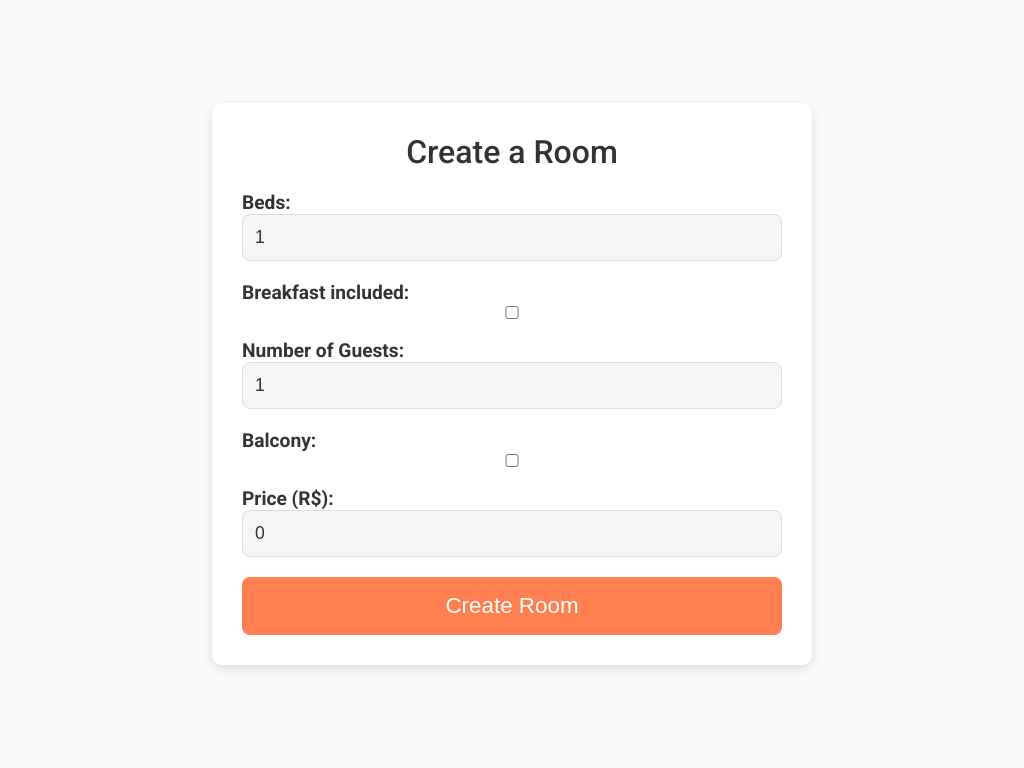
Test: RoomForm Component with Modal › handles form submission failure and shows modal
Simulando o clique no botão de submissão
What coordinates should you click on to do the following:
click the button "Create Room"
I would click on:
 (512, 606)
Its box is [242,577,782,635].
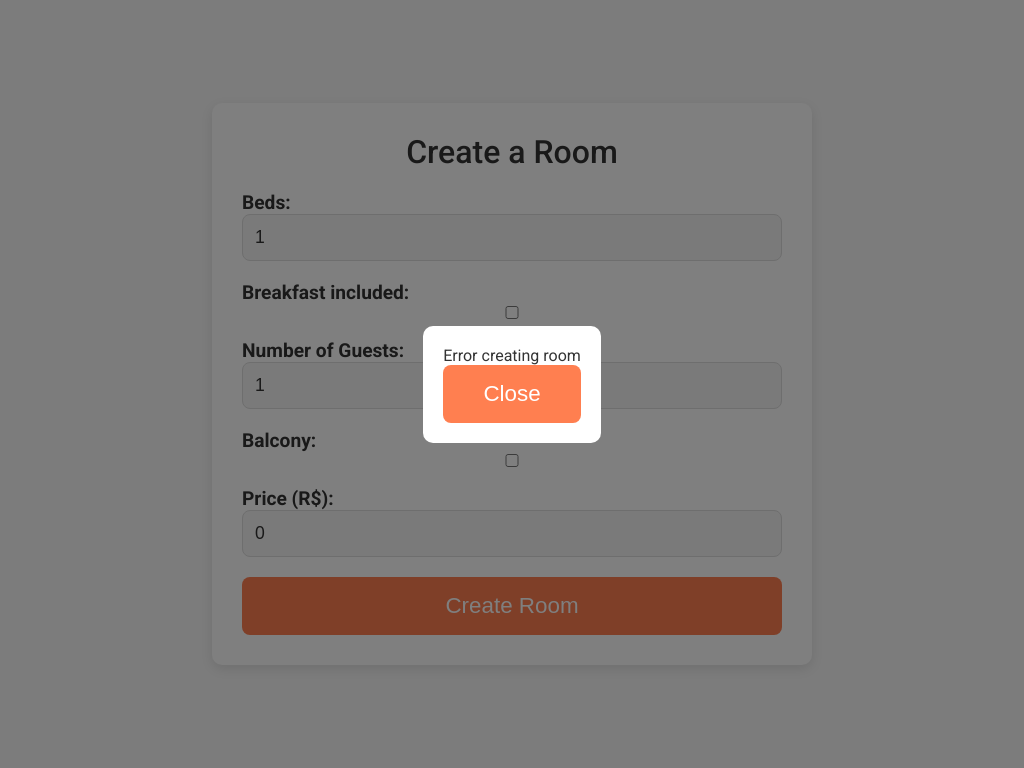
Now the text "Error creating room" is shown, box [443,346,581,364]
Fechando a modal
What coordinates should you click on to do the following:
click the button "Close"
I would click on:
 (512, 394)
Its box is [443,364,581,422].
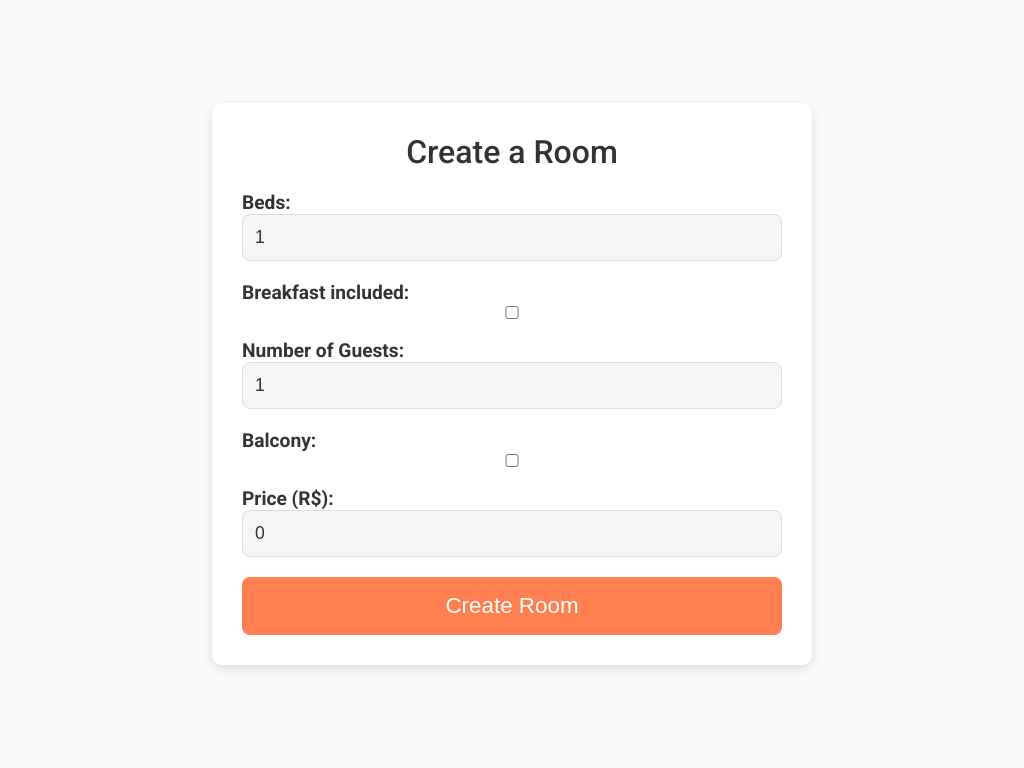
Now the text "Error creating room" is gone
